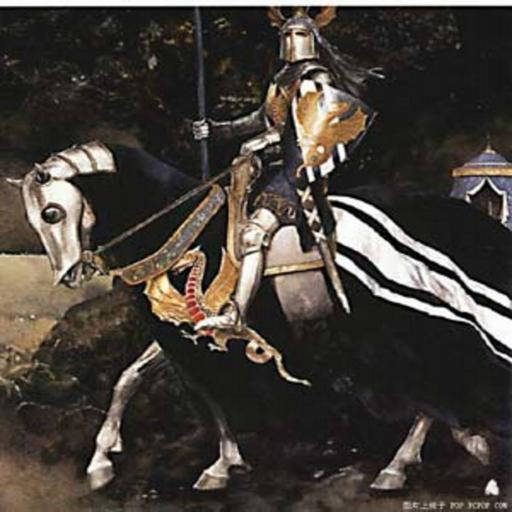horse: (6, 142, 510, 490)
